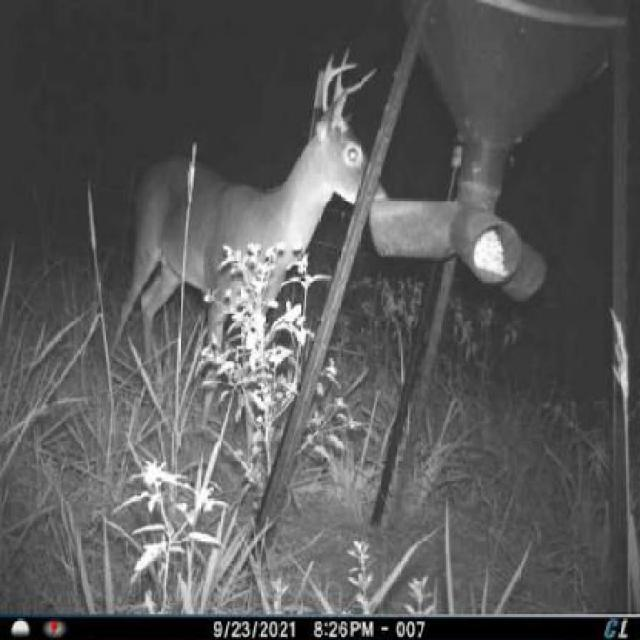Deer: (123, 35, 388, 473)
